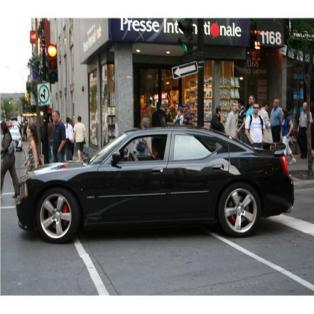Auto: (14, 126, 296, 246)
